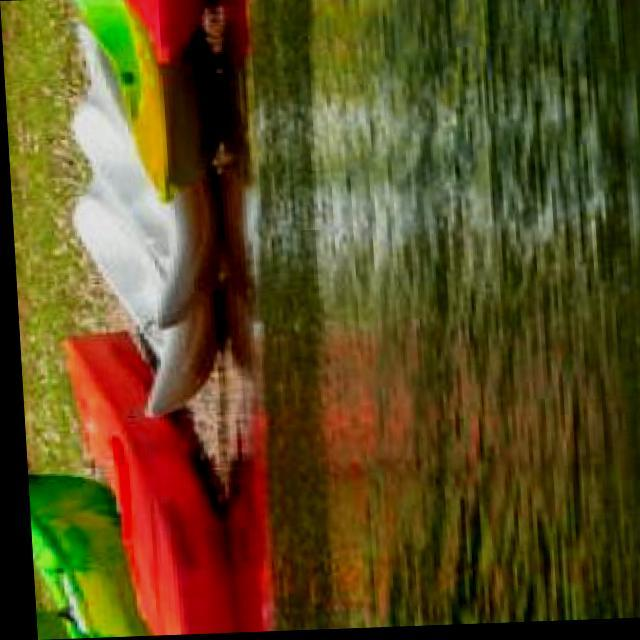kayak: (70, 22, 213, 415), (61, 334, 223, 637), (22, 471, 134, 640)
